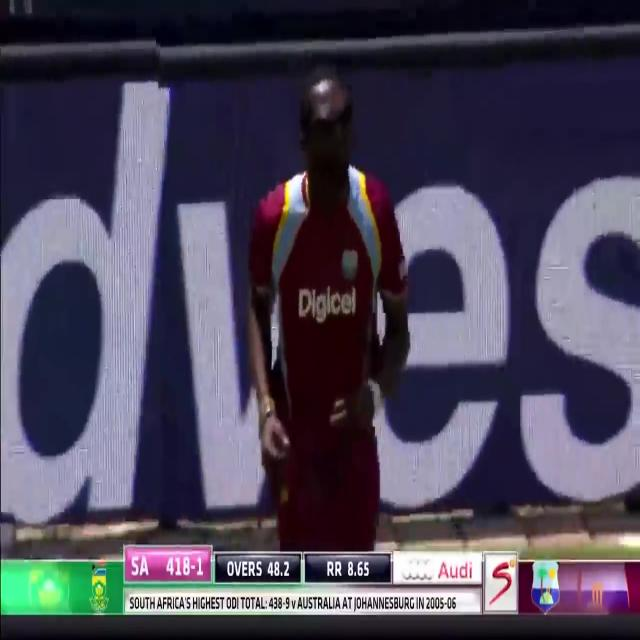Fielder: (236, 66, 426, 537)
